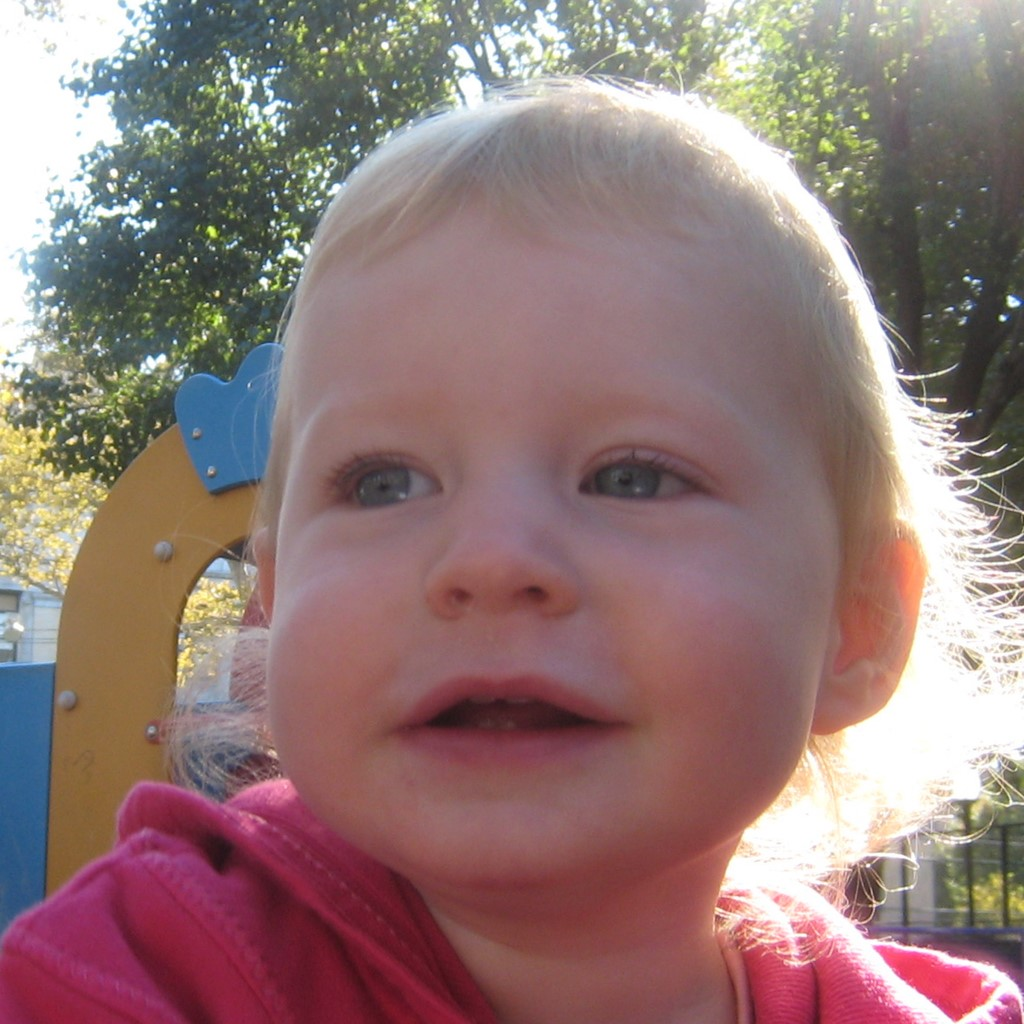sin_mascara: (289, 129, 856, 880)
